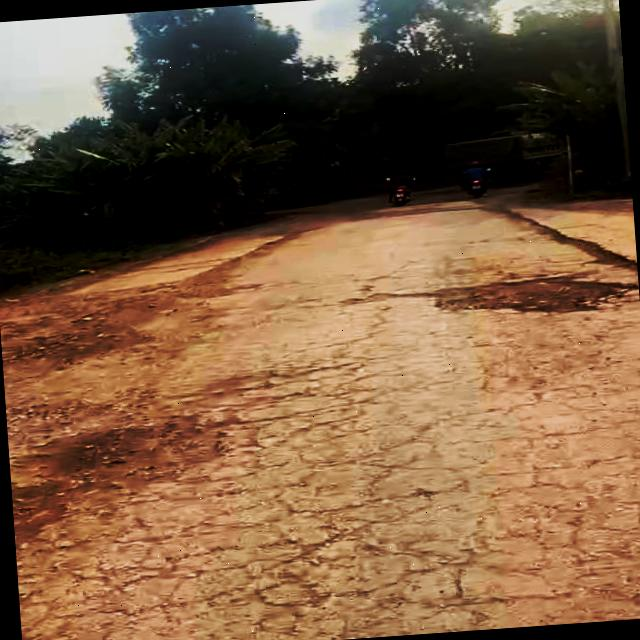pothole: (427, 269, 636, 322)
